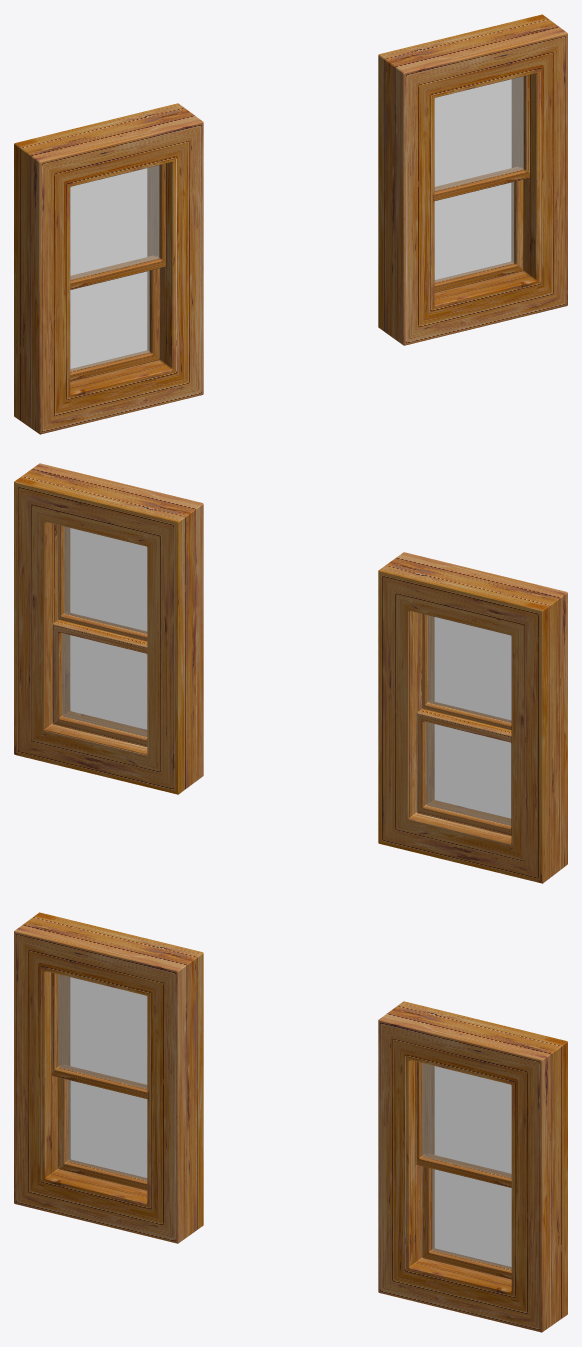
Rendered from windows.fbx.
The picture shows the model from 3 angles, top to bottom: view 1: azimuth 30°, elevation 25°; view 2: azimuth 150°, elevation 25°; view 3: azimuth 330°, elevation 25°; orthographic projection.
Parts seen in each view (by area): view 1: WindowFrames, WIndowGlass; view 2: WindowFrames, WIndowGlass; view 3: WindowFrames, WIndowGlass.
Boxes of the visible parts, <box> form: WindowFrames: <box>14,14,567,434</box>; WIndowGlass: <box>70,76,523,371</box>; WindowFrames: <box>14,463,567,883</box>; WIndowGlass: <box>62,527,511,825</box>; WindowFrames: <box>14,912,567,1332</box>; WIndowGlass: <box>58,974,511,1269</box>.
Size of the model in its own units: 3.63 by 1.79 by 0.3095.
